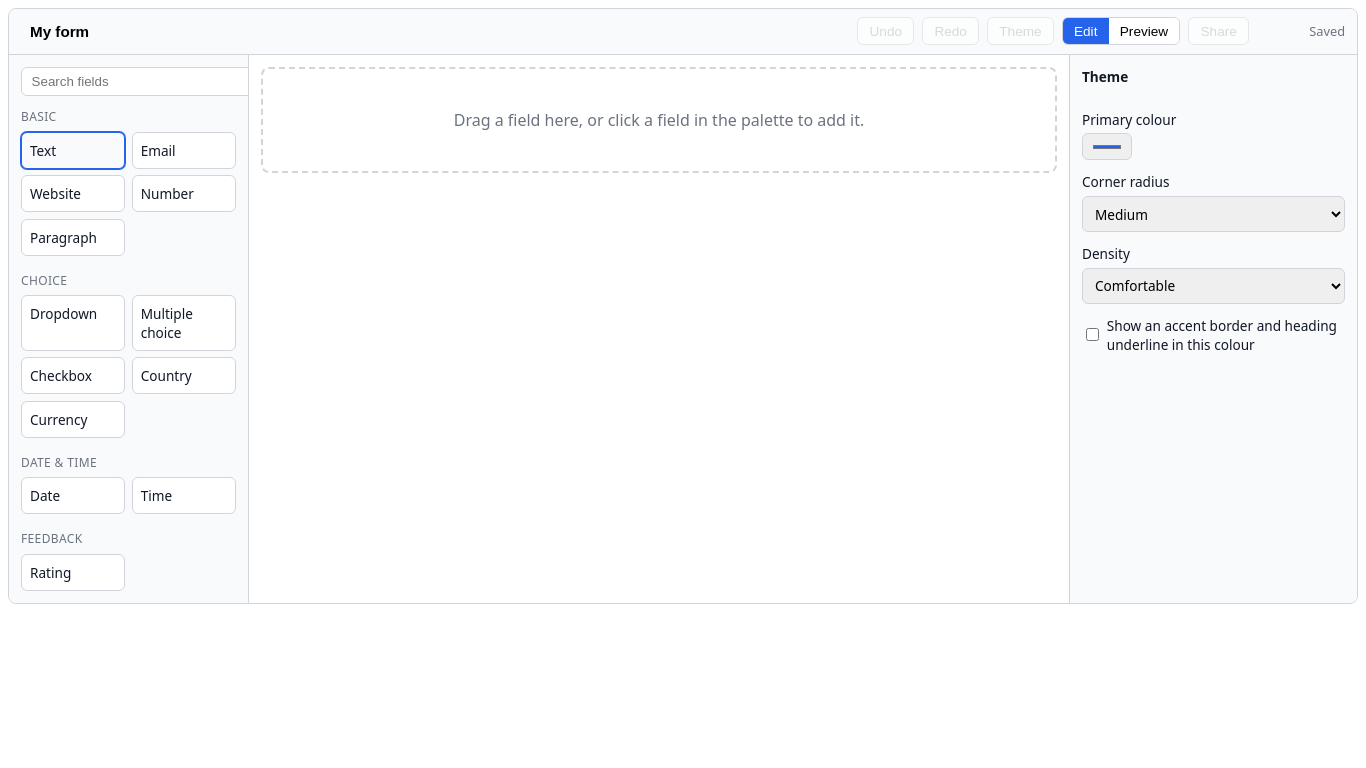
Test: Builder › marking a field required shows the asterisk on the canvas row
The width and height of the screenshot is (1366, 768).
Step 1. Click the option with aria-label "Add Text field" → click(73, 150), box [21, 132, 125, 169]
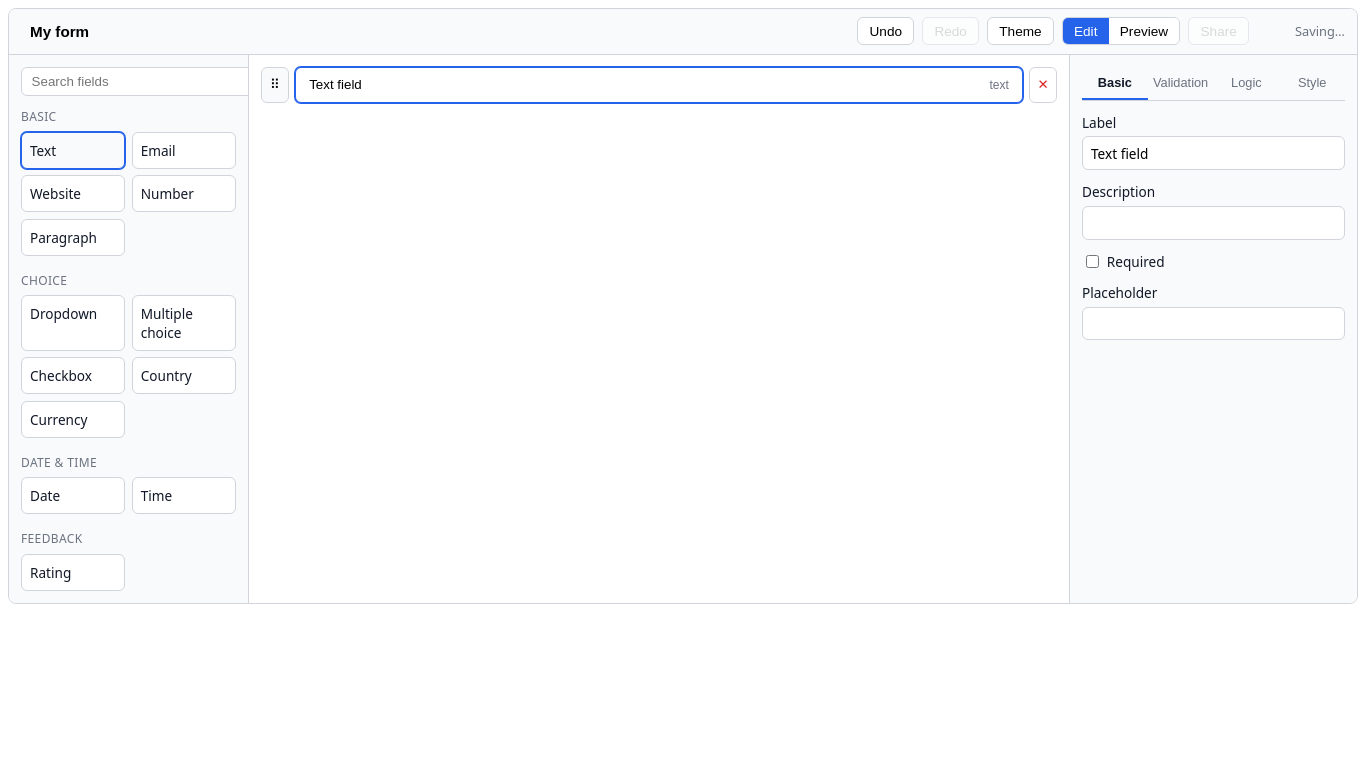
Step 2. Click the checkbox labelled "Required" → click(1092, 261), box [1086, 255, 1099, 268]
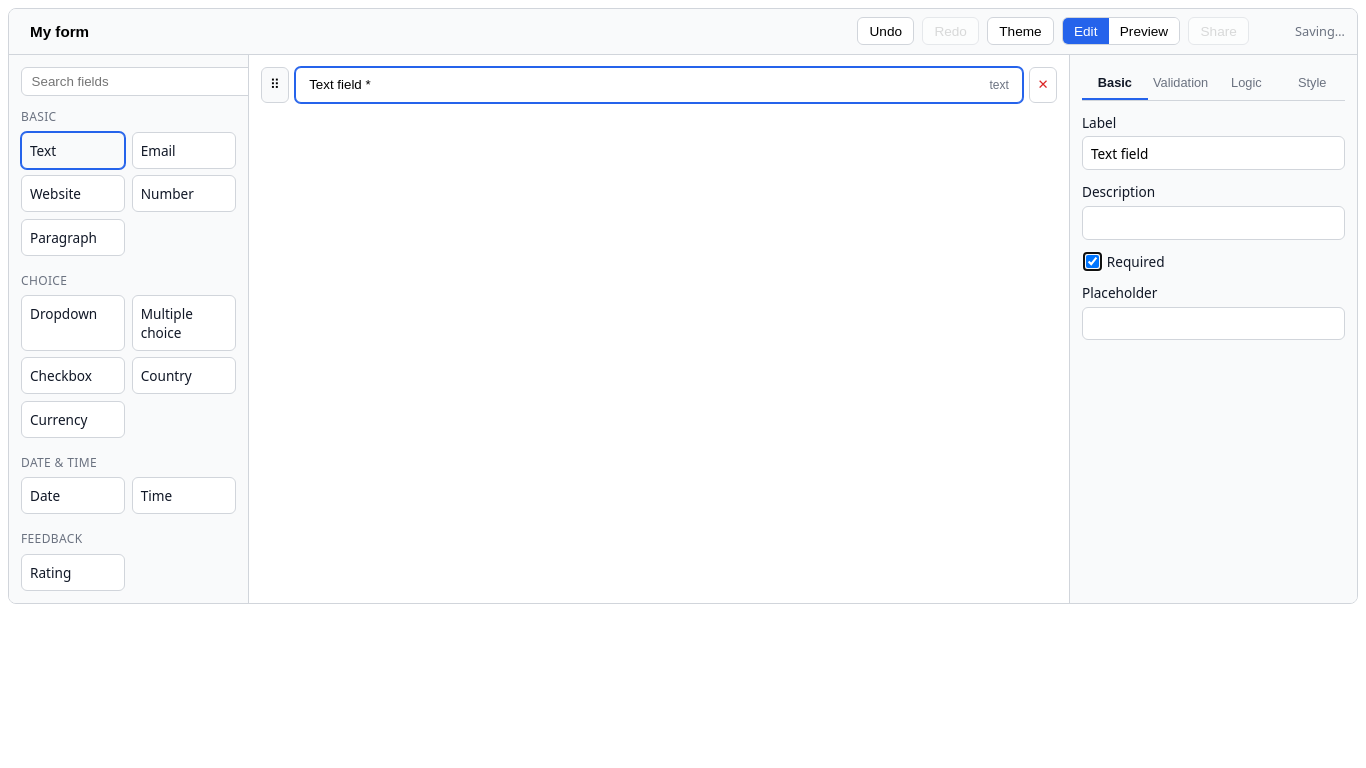
Now the button "Text field * text" is shown, box [295, 67, 1023, 103]
